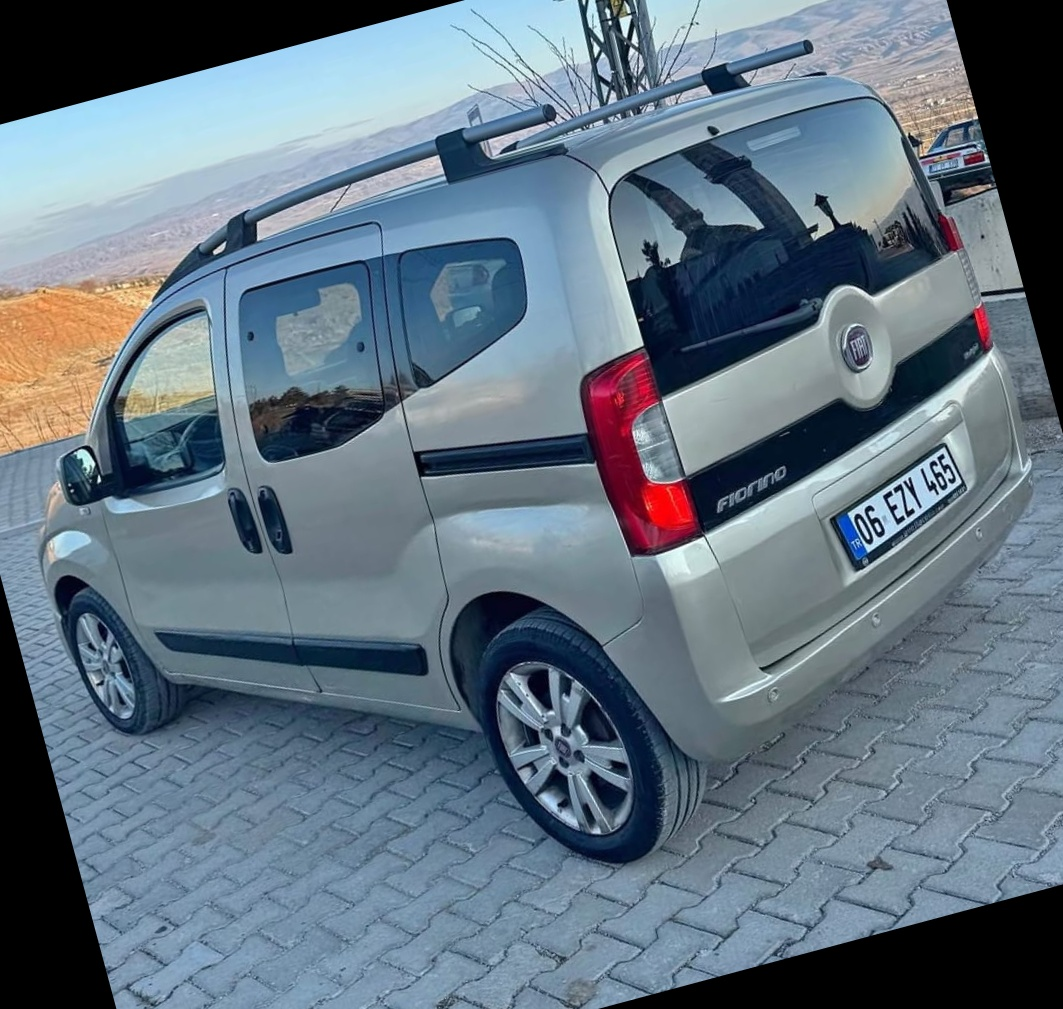plaka: (823, 453, 992, 549)
